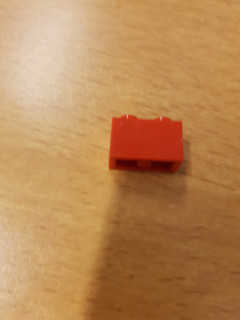1x2 red: (110, 115, 186, 170)
